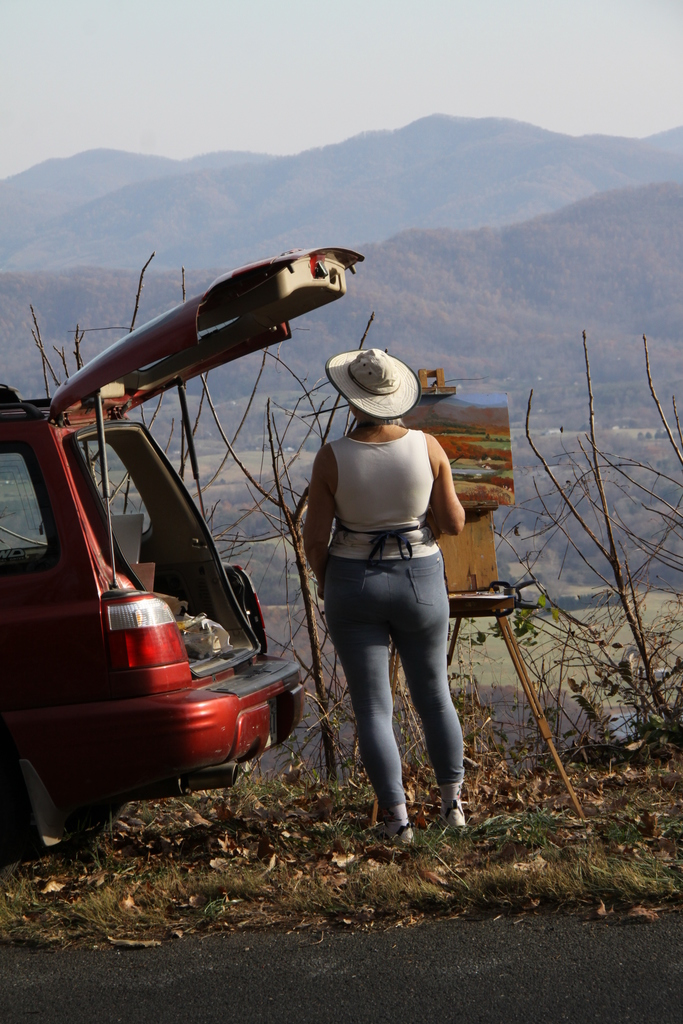Car: (0, 245, 365, 864)
